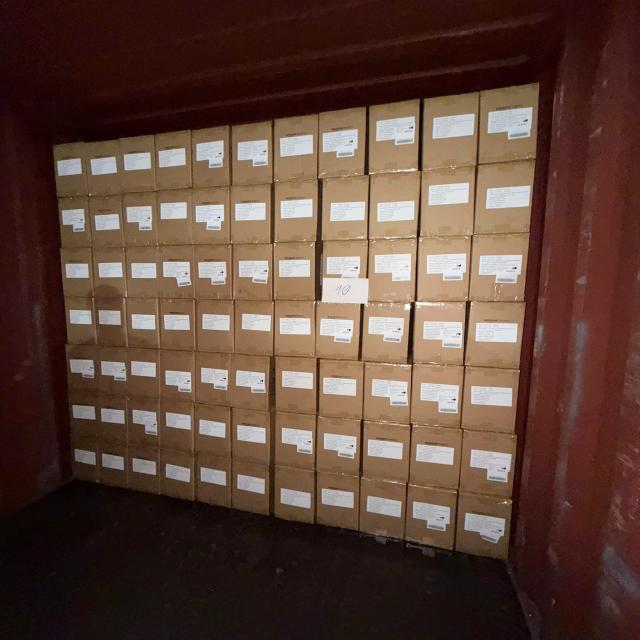Carton: (477, 86, 539, 166), (476, 161, 538, 235), (421, 94, 479, 170), (469, 235, 527, 305), (464, 363, 522, 432), (456, 491, 513, 561), (420, 171, 476, 242), (469, 303, 527, 371), (463, 430, 518, 501), (366, 102, 418, 175), (413, 302, 467, 368), (419, 238, 472, 304), (368, 173, 419, 241), (410, 427, 462, 493), (321, 109, 369, 180), (412, 364, 463, 430), (406, 488, 456, 555), (367, 239, 416, 305), (323, 176, 371, 243), (362, 422, 411, 486), (320, 242, 368, 307), (359, 477, 405, 544), (362, 302, 411, 364), (364, 362, 412, 425), (274, 182, 320, 245), (126, 248, 180, 301), (274, 116, 318, 181), (317, 416, 363, 478), (317, 470, 361, 532), (320, 358, 364, 419), (272, 464, 315, 526), (272, 409, 316, 469), (230, 121, 271, 184), (274, 243, 317, 303), (317, 304, 362, 361), (232, 185, 274, 246), (273, 357, 317, 415), (86, 138, 127, 197), (274, 302, 316, 359), (193, 128, 232, 188), (234, 408, 274, 466), (230, 460, 270, 518), (230, 352, 270, 409), (231, 245, 271, 302), (234, 300, 274, 356), (194, 246, 233, 302), (194, 456, 232, 512), (194, 188, 231, 245), (195, 299, 234, 353), (159, 132, 194, 190), (94, 435, 130, 491), (195, 350, 232, 404), (68, 432, 105, 486), (122, 136, 157, 193), (95, 343, 131, 398), (194, 404, 232, 456), (161, 190, 195, 247), (159, 299, 196, 351), (64, 342, 100, 395), (161, 448, 196, 502), (161, 246, 195, 301), (125, 192, 159, 246), (161, 400, 196, 452), (162, 351, 196, 404), (66, 389, 102, 439), (54, 144, 87, 198), (89, 196, 122, 248), (129, 349, 161, 402), (127, 301, 160, 352), (128, 448, 160, 500), (92, 250, 125, 300), (60, 197, 92, 248), (95, 299, 126, 349), (100, 397, 131, 447), (128, 400, 160, 448), (62, 250, 92, 300), (64, 300, 94, 347)
